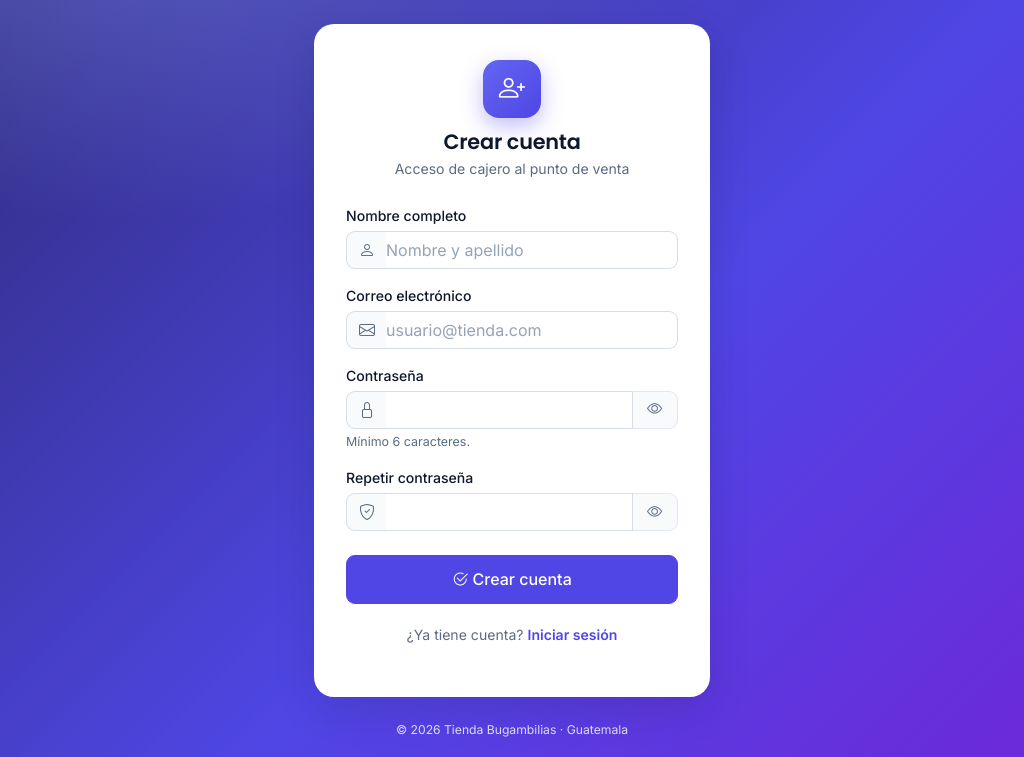
Test: Registro › correo ya registrado: muestra el mensaje del servidor
Type "Ana López" into the field labelled "Nombre completo" at (532, 250), box [386,231,678,269]
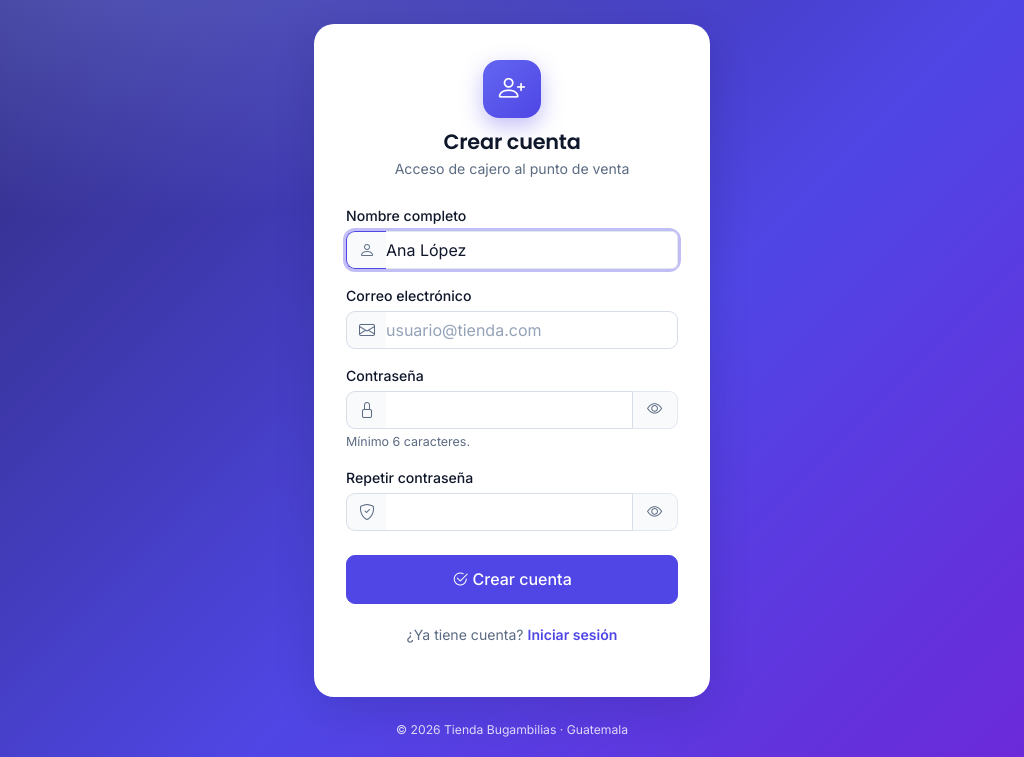
Type "ana@tienda.com" into the field labelled "Correo electrónico" at (532, 330), box [386,311,678,349]
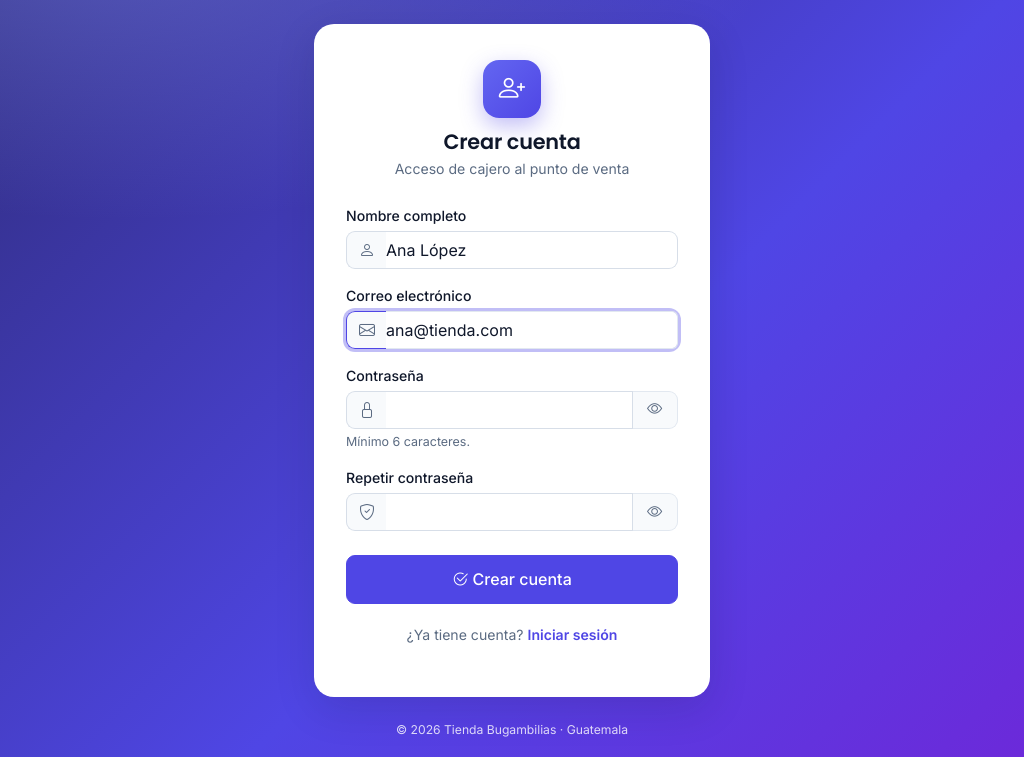
Type "secreto1" into the password field labelled "Contraseña" at (510, 410), box [386,391,633,429]
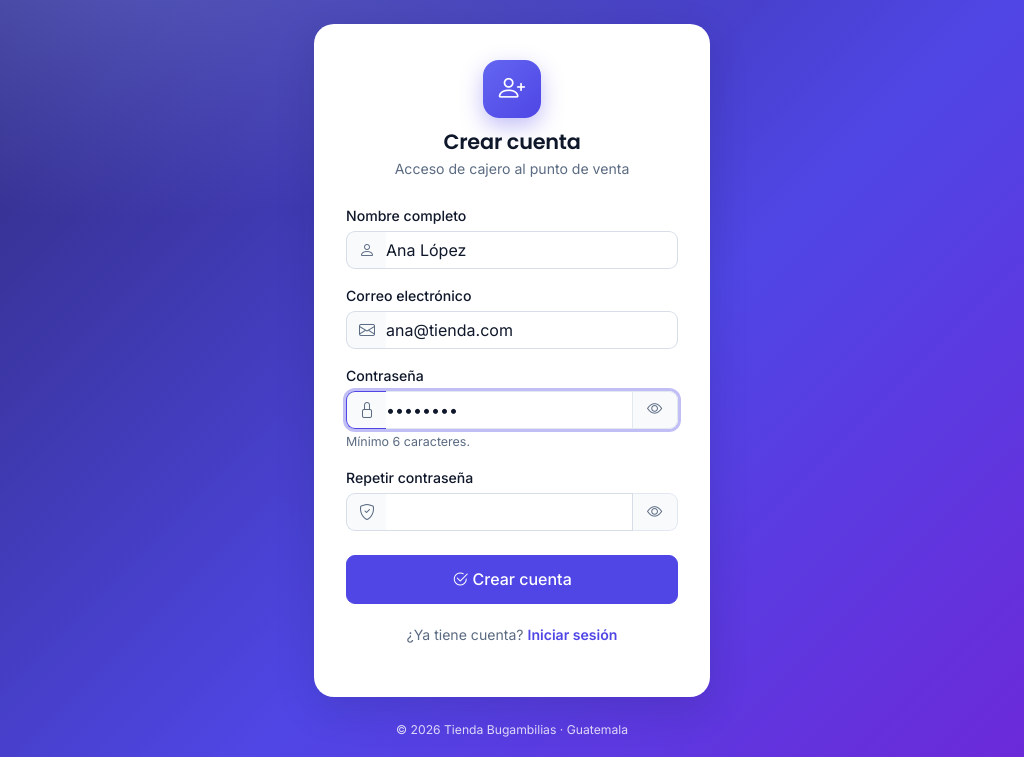
Type "secreto1" into the password field labelled "Repetir contraseña" at (510, 512), box [386,493,633,531]
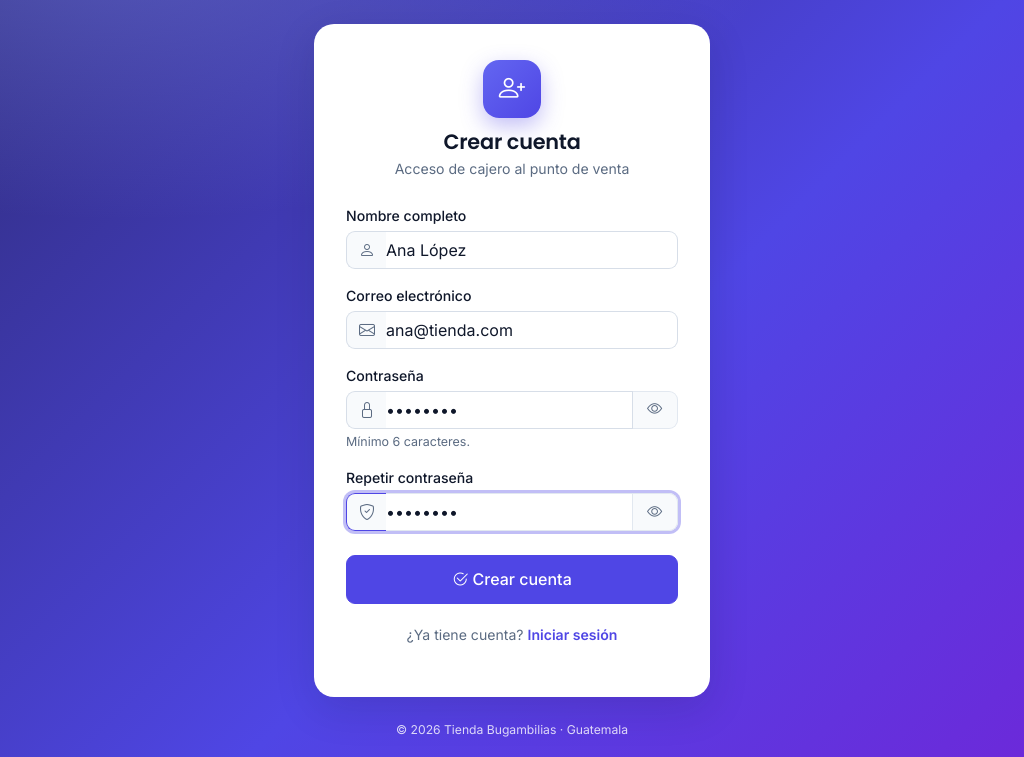
Click the button "Crear cuenta" at (512, 579), box [346,555,678,604]
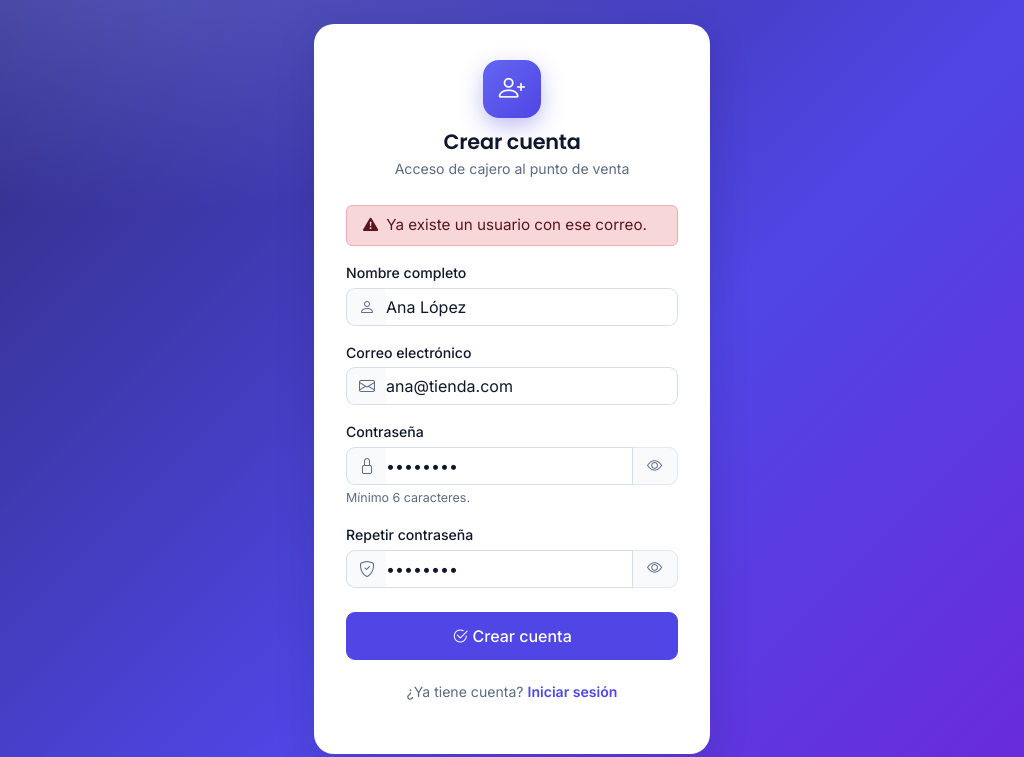
Now the message "Ya existe un usuario con ese correo." is shown, box [346,205,678,246]
